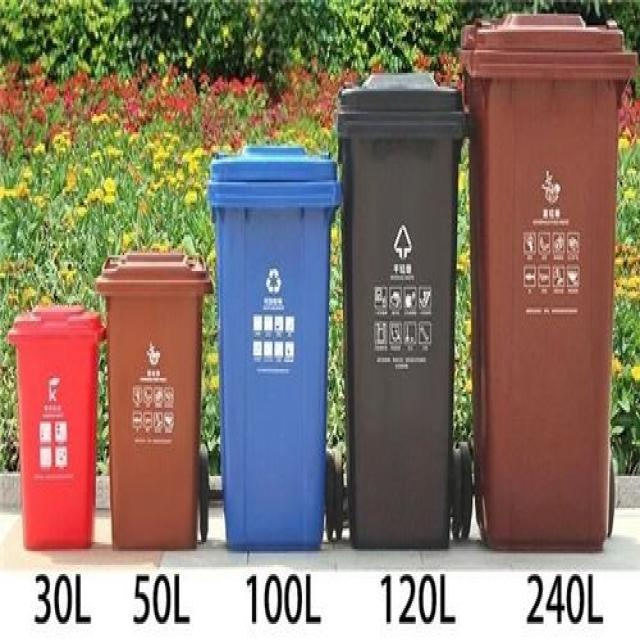garbage_bin: (458, 9, 635, 549), (337, 68, 466, 549), (206, 146, 341, 551), (94, 250, 212, 549), (8, 303, 105, 547)
